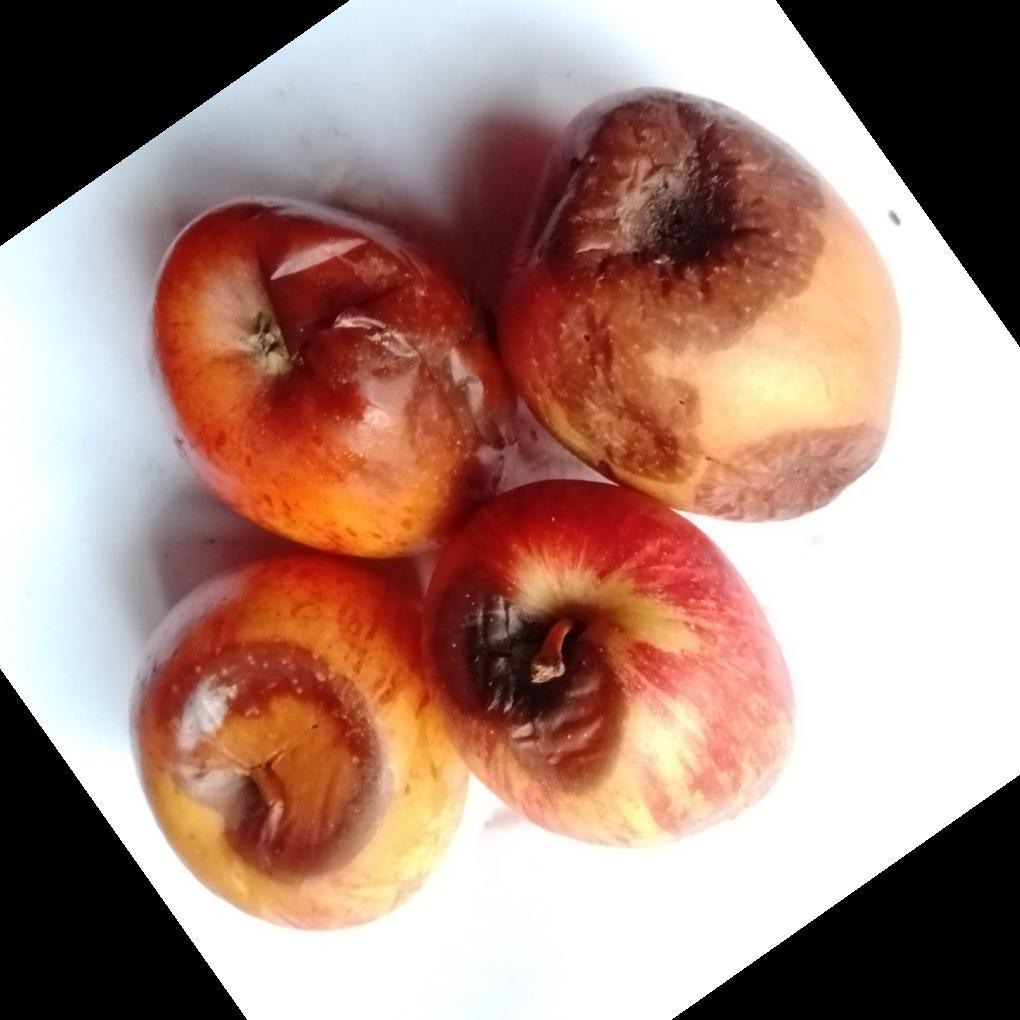FreshOrange: (131, 89, 903, 934)
